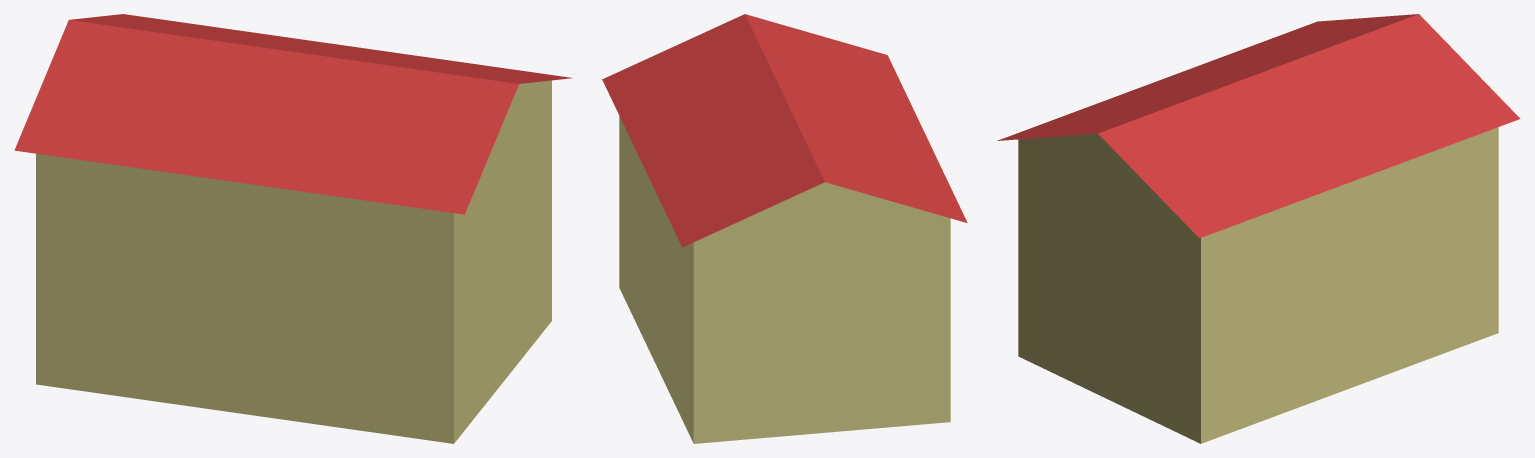
3 renders of one model, left to right at view 1: azimuth 30°, elevation 25°; view 2: azimuth 150°, elevation 25°; view 3: azimuth 270°, elevation 25°, orthographic. The views are drawn at different scales.
Visible parts, largest first — view 1: group_5, group_3, group_4; view 2: group_5, group_3, group_4; view 3: group_5, group_3, group_4.
Boxes of the visible parts, x1,y1,x2,y2 form: group_5: (36,80,551,443); group_3: (36,17,572,213); group_4: (14,14,564,214); group_5: (619,116,950,443); group_3: (602,14,950,234); group_4: (602,14,967,247); group_5: (1018,127,1498,443); group_3: (1019,14,1498,238); group_4: (997,14,1520,237).
Size of the model in its own units: 24.89 by 25.41 by 14.49.
